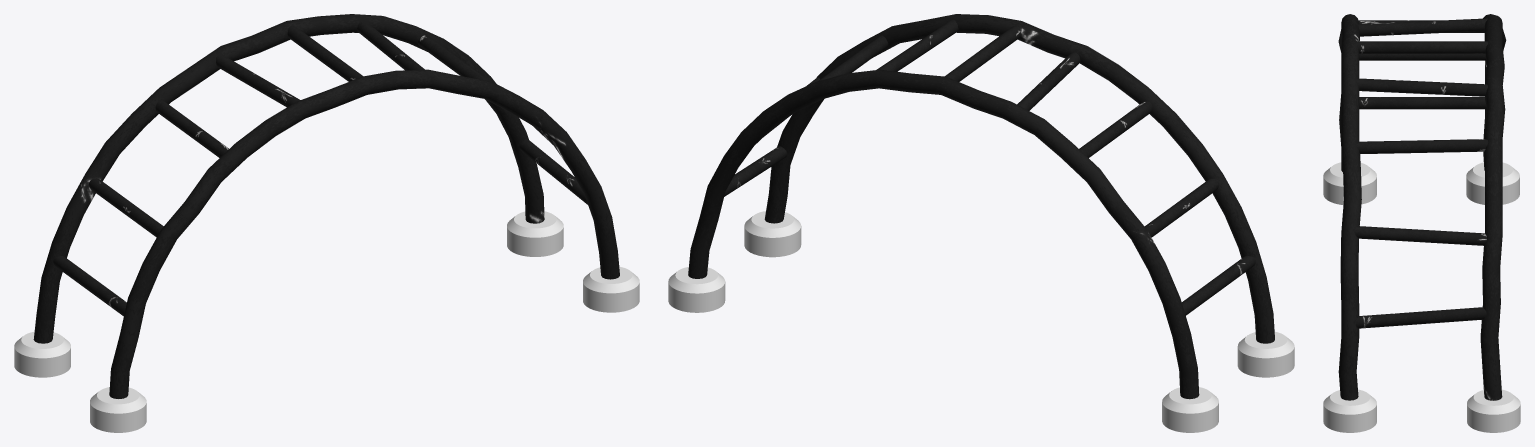
The model's file is teline.fbx.
3 views of the same model, side by side, from view 1: azimuth 30°, elevation 25°; view 2: azimuth 150°, elevation 25°; view 3: azimuth 270°, elevation 25° (orthographic). The views are drawn at different scales.
Visible parts, largest first — view 1: Pole001, sideBeam005, groundPiece003, groundPiece004, groundPiece002, groundPiece001; view 2: Pole001, sideBeam005, groundPiece004, groundPiece001, groundPiece002, groundPiece003; view 3: Pole001, sideBeam005, groundPiece002, groundPiece001, groundPiece003, groundPiece004.
Part boxes in pixels (<box>): Pole001: <box>33,14,619,398</box>; sideBeam005: <box>53,20,587,316</box>; groundPiece003: <box>14,331,70,377</box>; groundPiece004: <box>90,387,146,432</box>; groundPiece002: <box>583,266,639,312</box>; groundPiece001: <box>507,211,563,256</box>; Pole001: <box>688,14,1274,399</box>; sideBeam005: <box>724,20,1255,315</box>; groundPiece004: <box>1237,331,1294,377</box>; groundPiece001: <box>668,267,725,312</box>; groundPiece002: <box>744,211,801,257</box>; groundPiece003: <box>1162,387,1218,432</box>; Pole001: <box>1338,14,1506,400</box>; sideBeam005: <box>1353,18,1488,328</box>; groundPiece002: <box>1323,389,1376,432</box>; groundPiece001: <box>1467,389,1520,432</box>; groundPiece003: <box>1466,162,1519,204</box>; groundPiece004: <box>1323,162,1376,204</box>.
Bounding box in the file's own units: 330 × 165 × 110.
